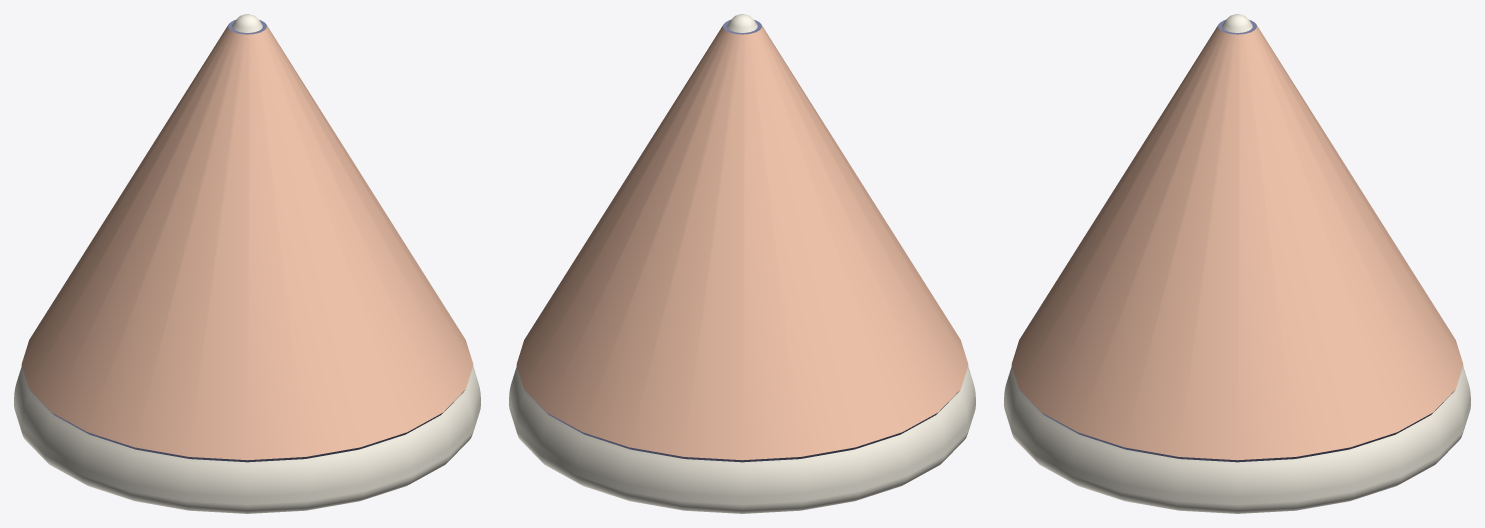
3 views of the same model, side by side, from view 1: azimuth 30°, elevation 25°; view 2: azimuth 150°, elevation 25°; view 3: azimuth 270°, elevation 25° (orthographic).
Visible parts, largest first — view 1: R4B_Cone; view 2: R4B_Cone; view 3: R4B_Cone.
Boxes of the visible parts, bbox=[...] form: R4B_Cone: bbox=[14, 14, 480, 513]; R4B_Cone: bbox=[509, 14, 975, 513]; R4B_Cone: bbox=[1004, 14, 1470, 513].
Bounding box in the file's own units: 0.512 × 0.4947 × 0.512.
